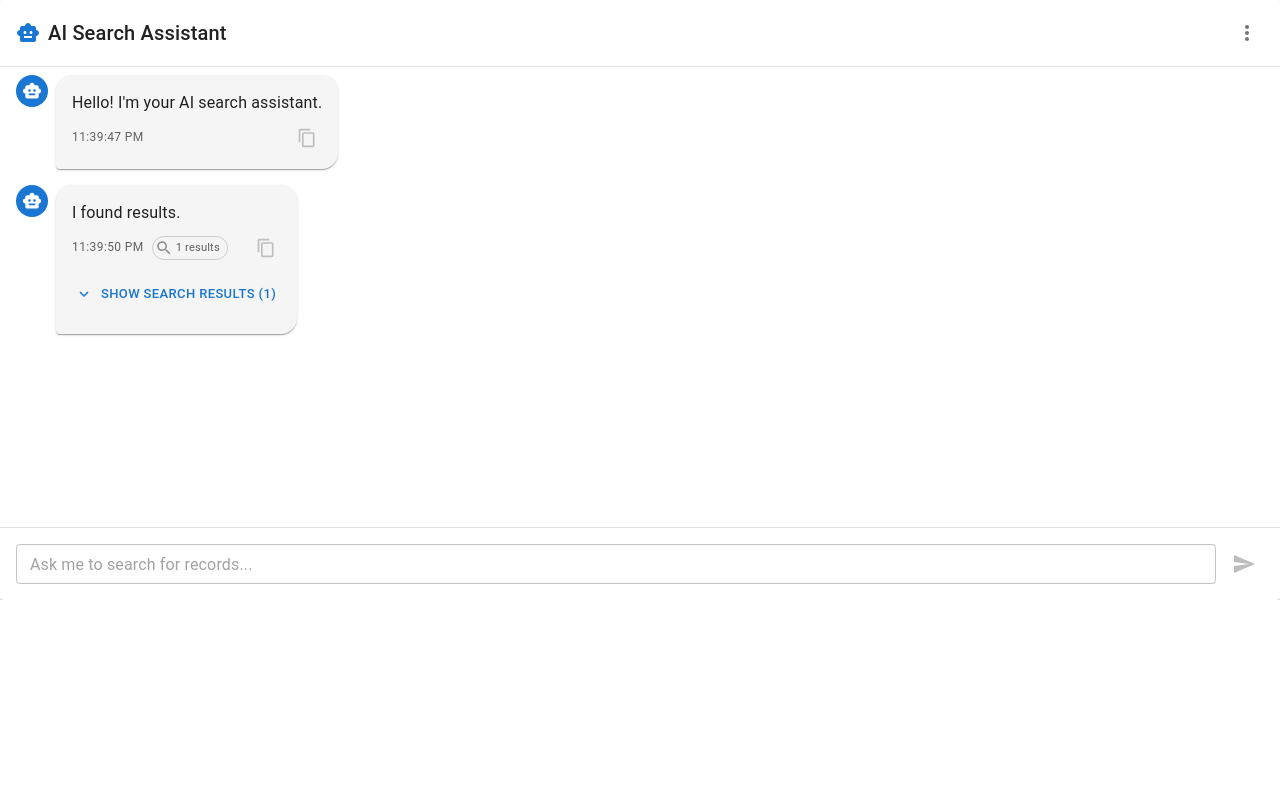
it: AISearchChat › expands and collapses search results
Click the button "Show Search Results (1)" at (177, 294), box [72, 279, 281, 310]
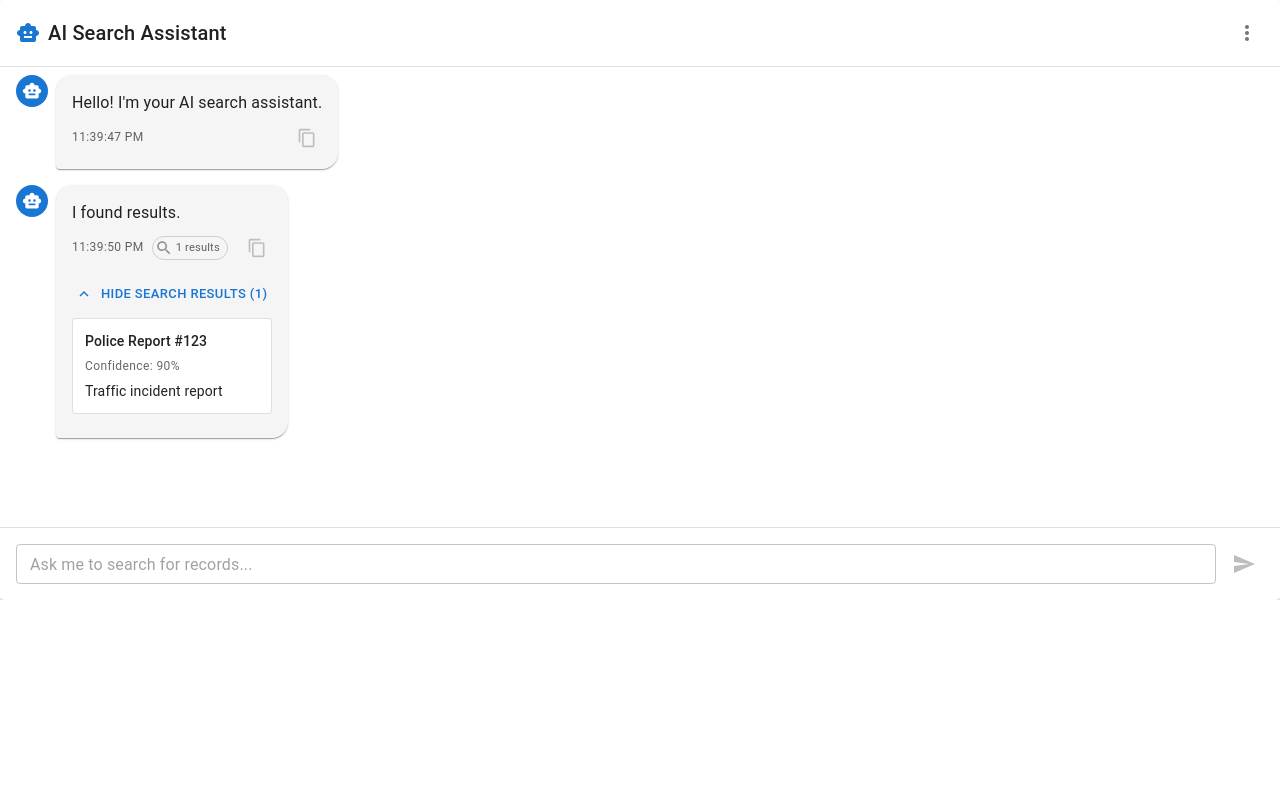
Now the heading "Police Report #123" is shown, box [85, 333, 207, 349]
Now the text "Traffic incident report" is shown, box [85, 383, 223, 399]
